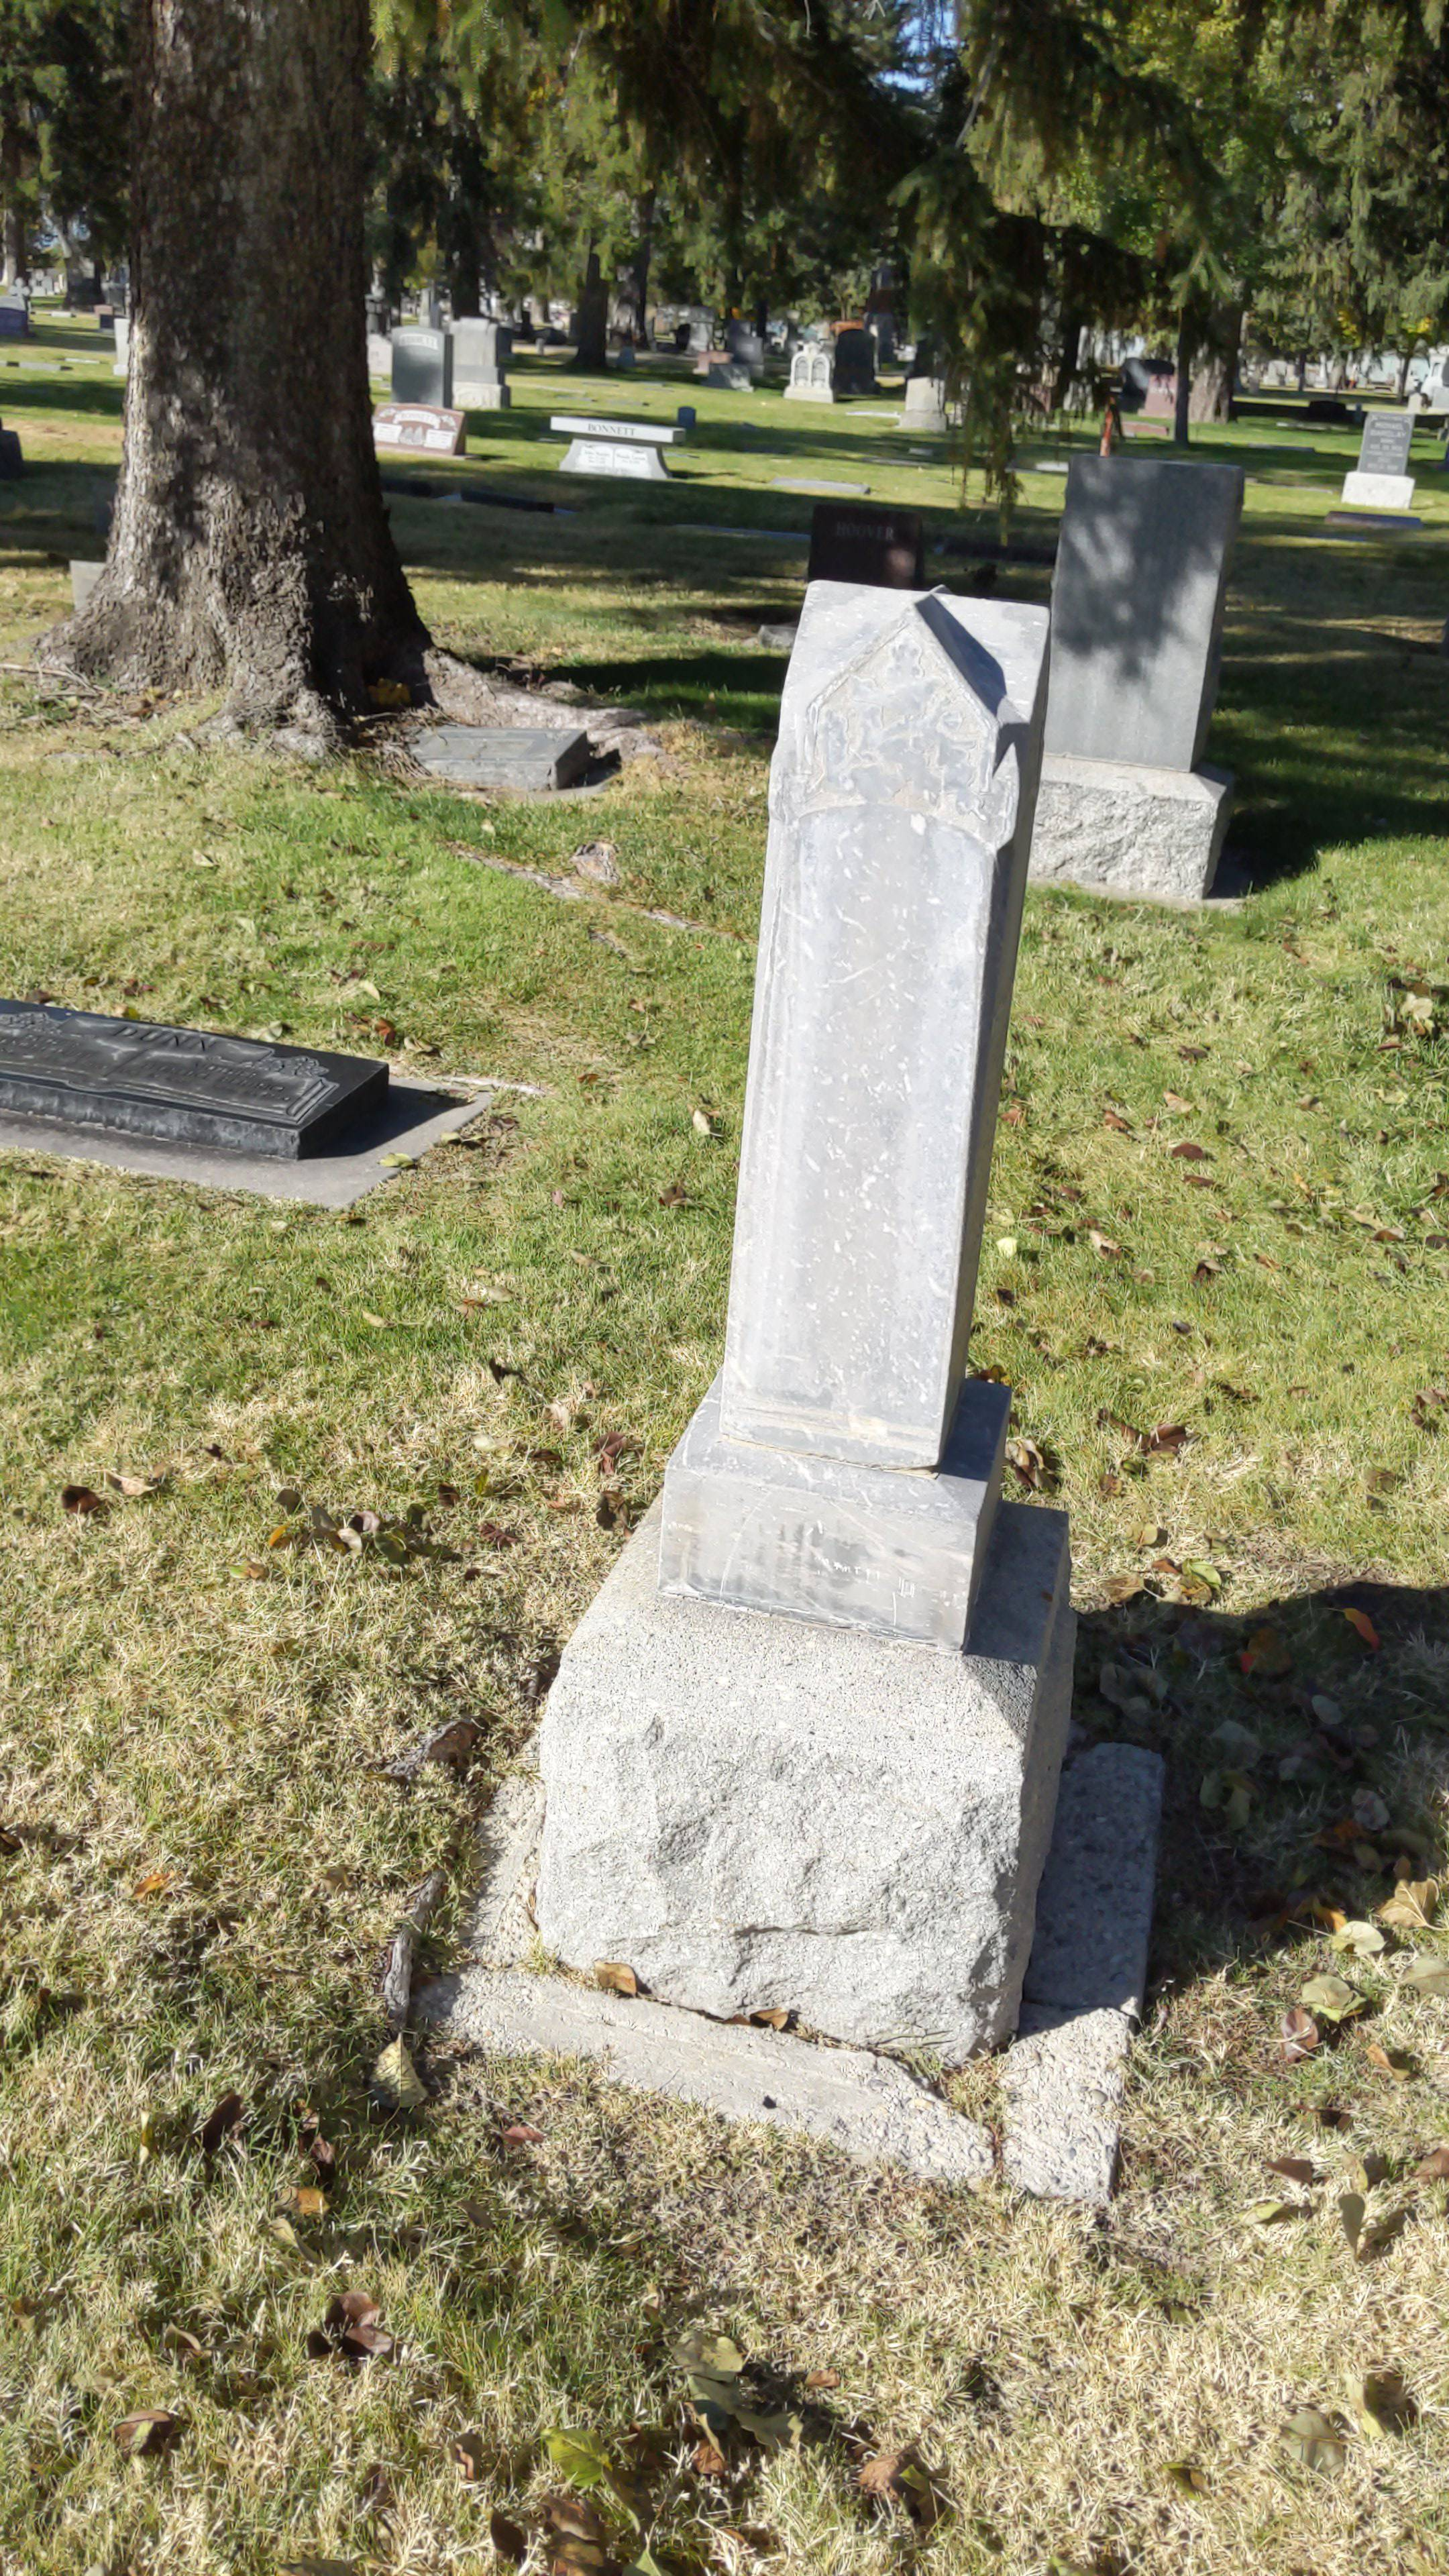obelisk: (663, 579, 1049, 1658)
